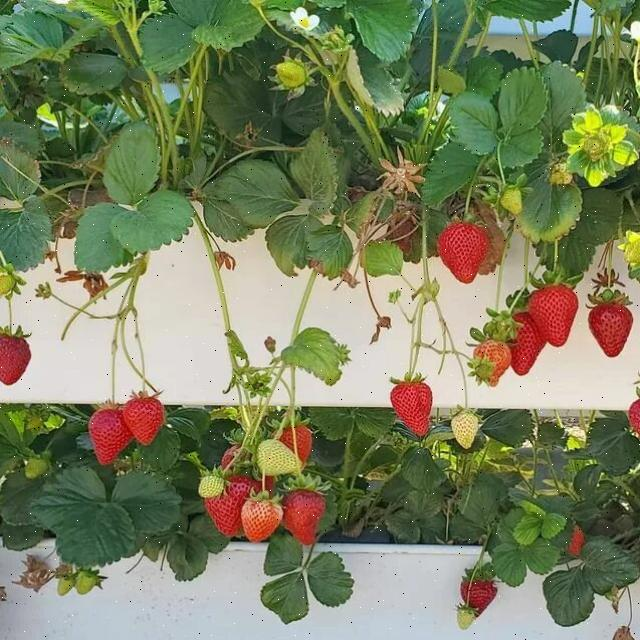Ripe Strawberry: (439, 222, 488, 284), (530, 287, 578, 347), (208, 476, 254, 532), (504, 312, 544, 375), (90, 409, 134, 463), (590, 304, 634, 357), (281, 490, 324, 541), (389, 384, 432, 434), (224, 448, 274, 490), (125, 396, 163, 444), (0, 335, 33, 385), (460, 574, 498, 616), (282, 427, 310, 462), (566, 527, 582, 553), (629, 400, 640, 429)
